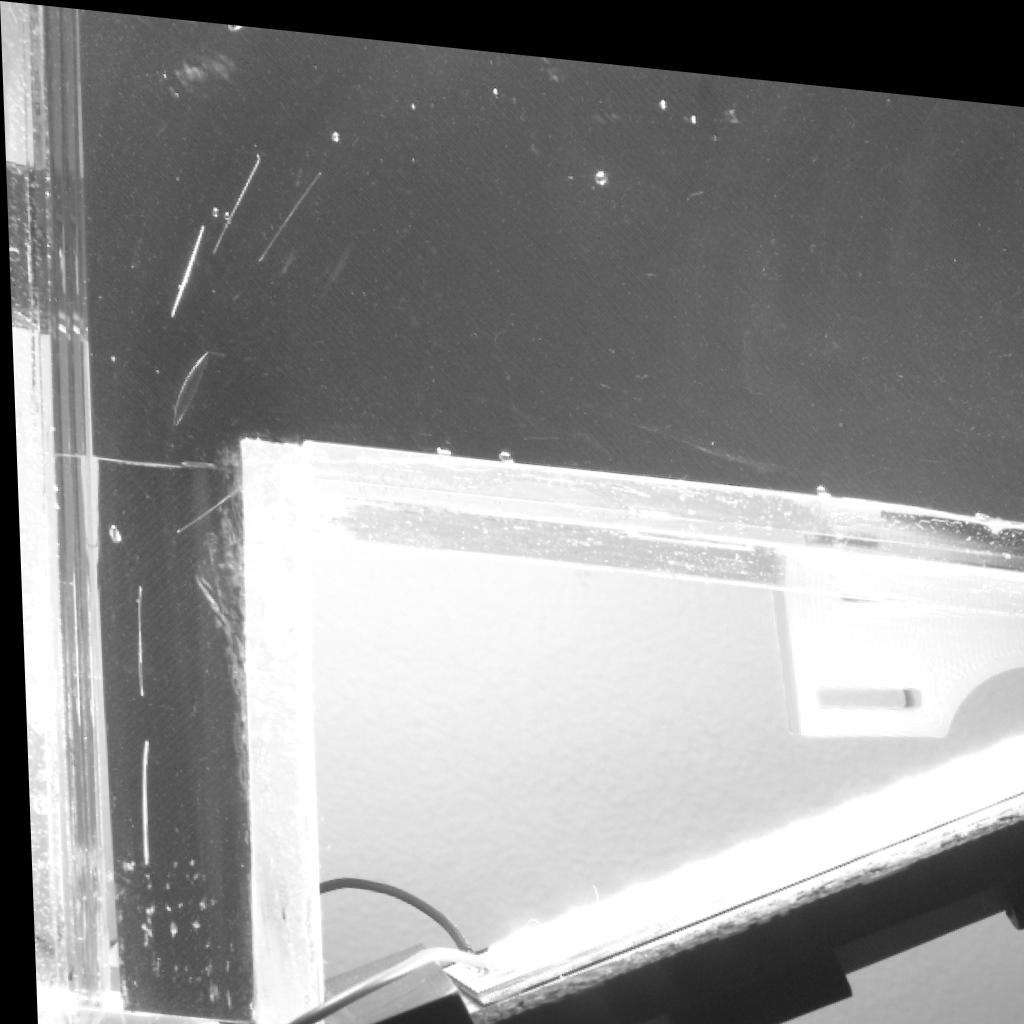Fiber: (256, 161, 323, 257), (207, 149, 259, 249), (170, 467, 251, 531), (164, 217, 206, 314), (135, 734, 147, 864), (131, 579, 140, 699)
